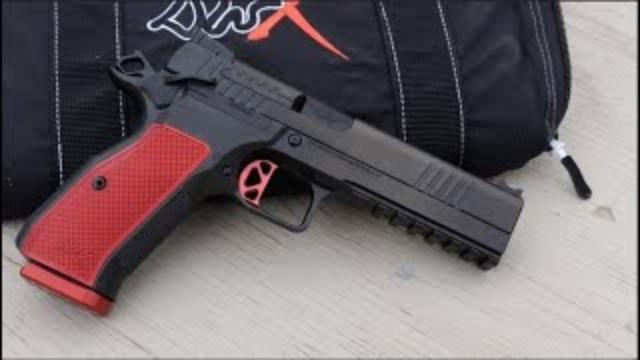handgun: (12, 21, 530, 320)
